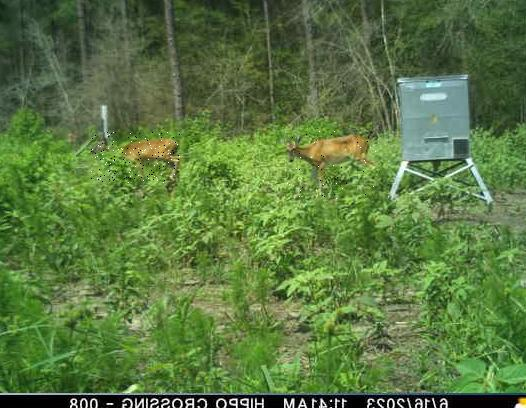Deer: (282, 131, 377, 199), (90, 133, 179, 184)
